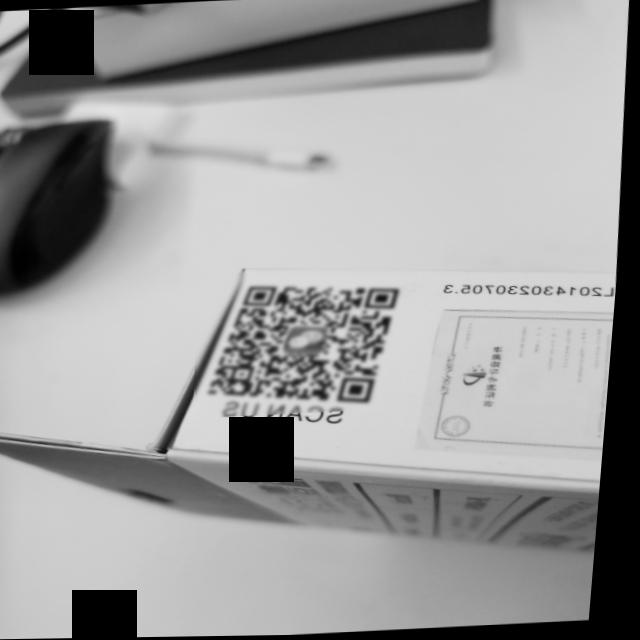QR_CODE: (195, 265, 421, 418)
